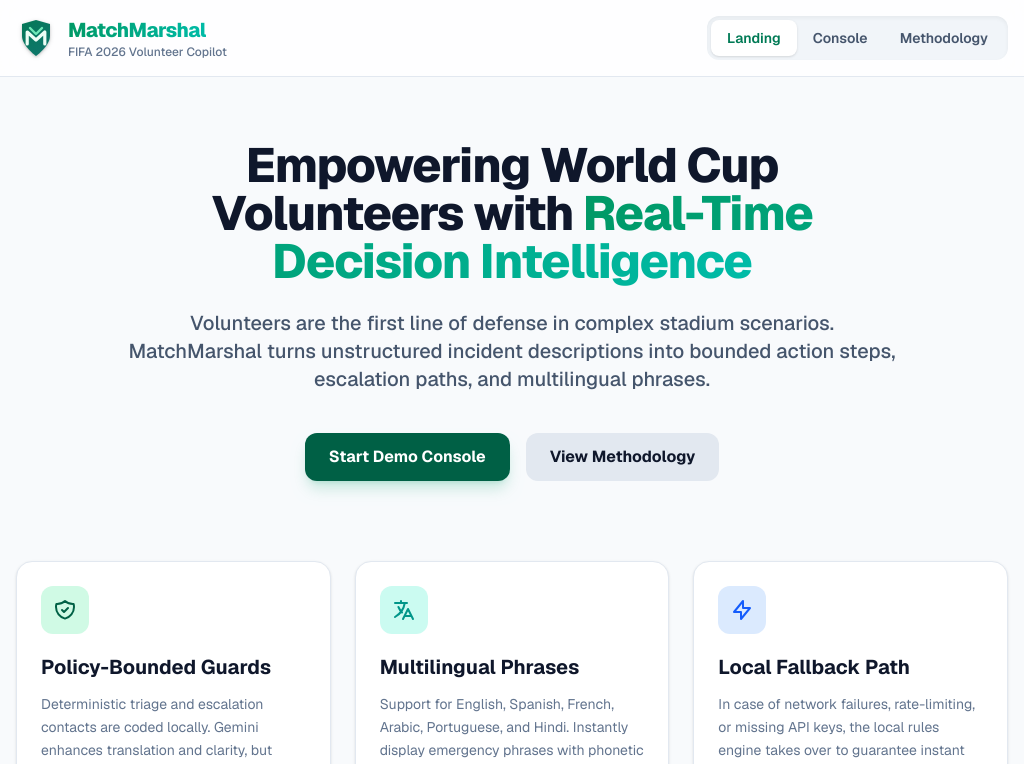
MatchMarshal App Layout & Navigation › autofills textarea and triages correctly when preset chip clicked
Note: Go to console
Step 1. Click the button "Console" → point(840, 38), box x1=797 y1=20 x2=884 y2=56
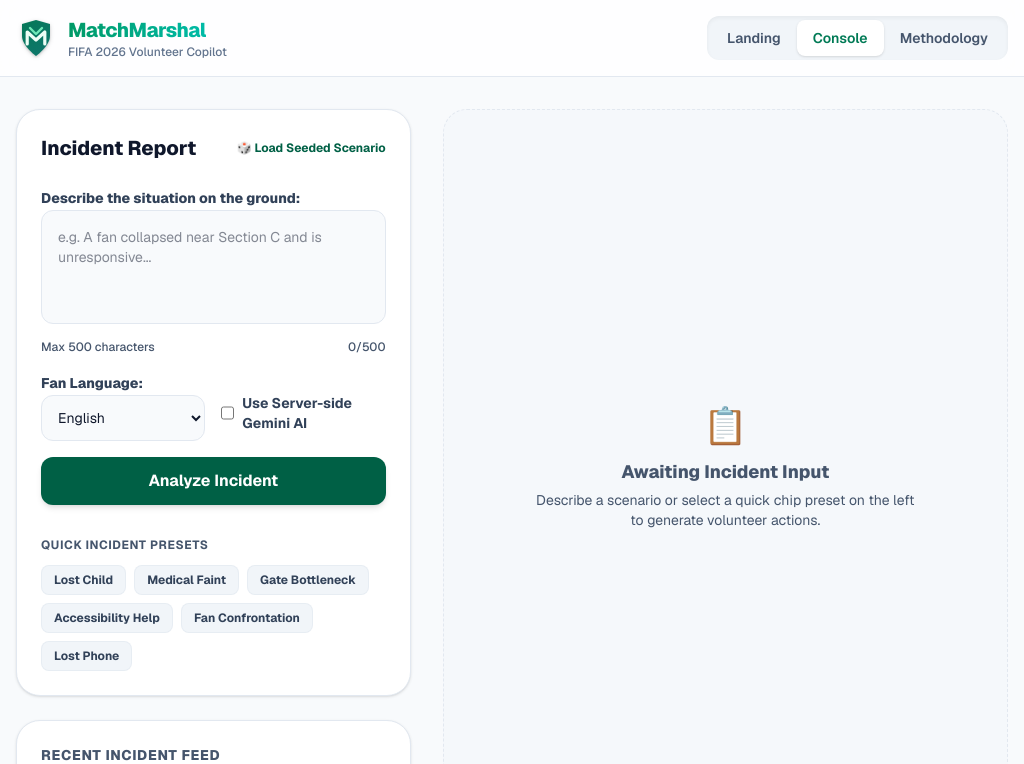
Note: Click Lost Child chip
Step 2. Click the button "Lost Child" → point(84, 580), box x1=41 y1=565 x2=126 y2=595
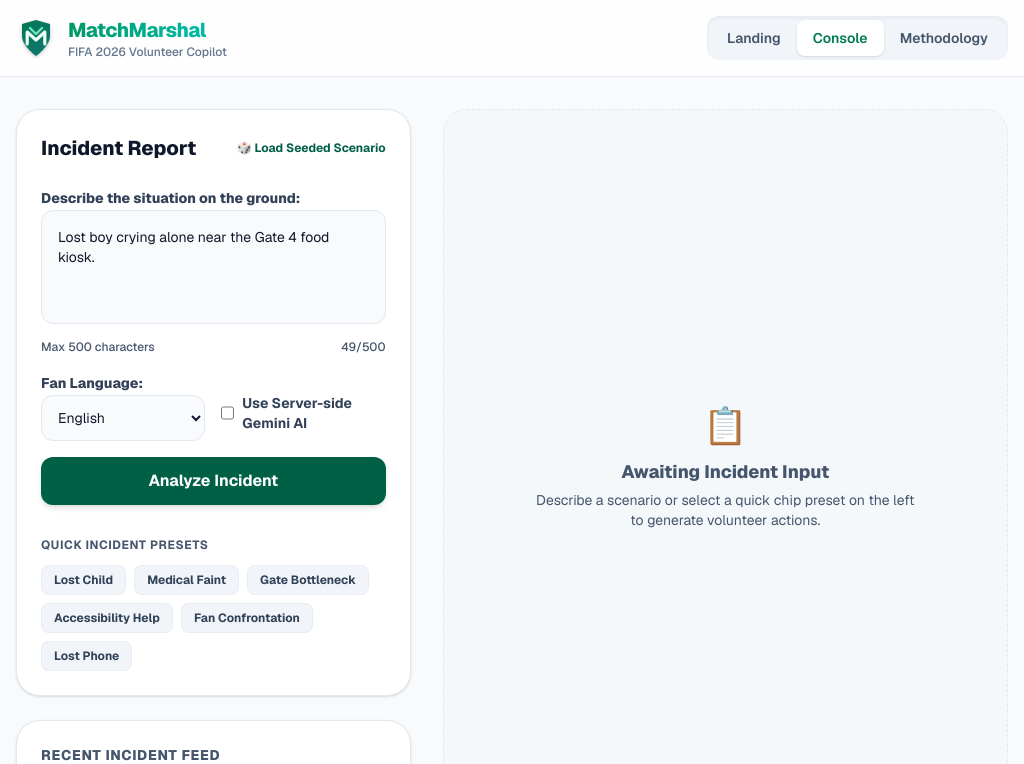
Note: Simulate typing/change so React state is guaranteed to update before form submission
Step 3. Replace the text in the text box labelled "Describe the situation on the ground:" with "Lost child crying alone near the Gate 4 food kiosk." → point(213, 267), box x1=41 y1=210 x2=386 y2=324
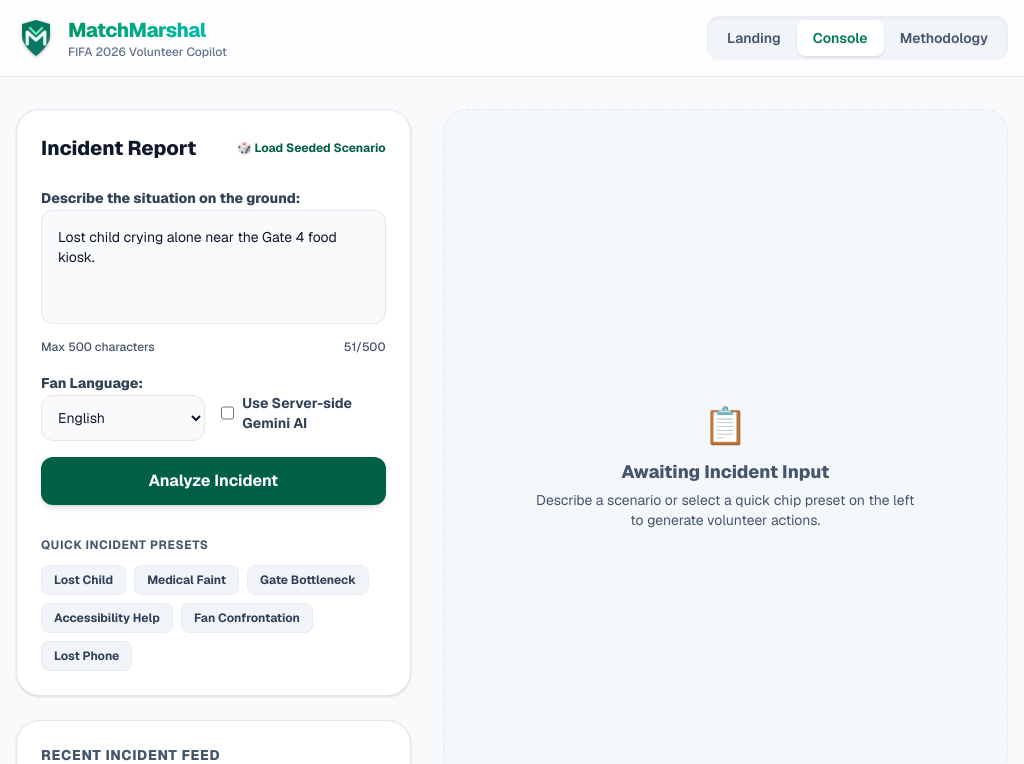
Note: Submit triage in local fallback mode (default)
Step 4. Submit the form labelled "Describe the situation on the ground", box x1=41 y1=186 x2=386 y2=505
(page scrolled)
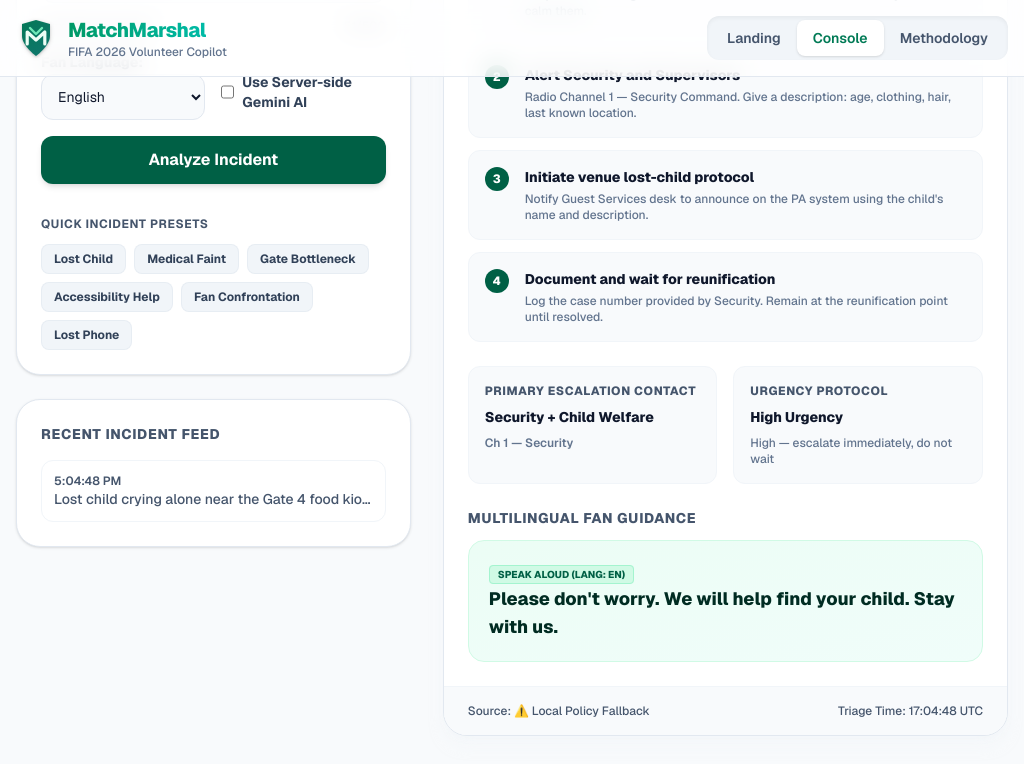
Check: the text "Ch 1 — Security" is shown, box x1=485 y1=435 x2=573 y2=451
